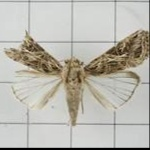Spodoptera litura: (3, 29, 148, 125)
